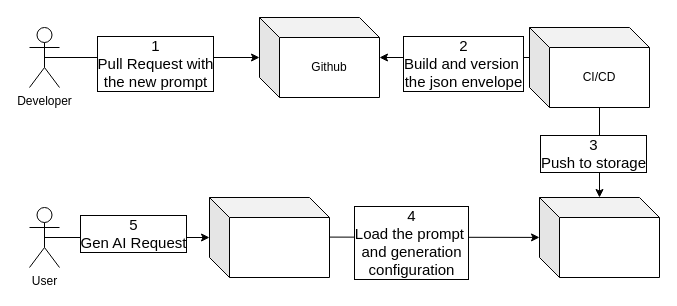
This 677x306 diagram has some shape labels left out. Here are the shapes that lost their labels. From the top down, the centre of each, then its label:
At point 269,237: "APP".
At point 599,237: "GCS".
